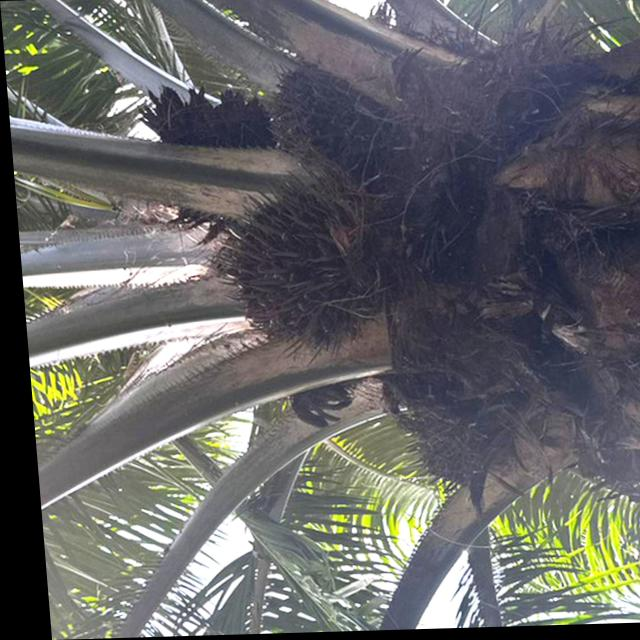ripe: (195, 150, 398, 377)
